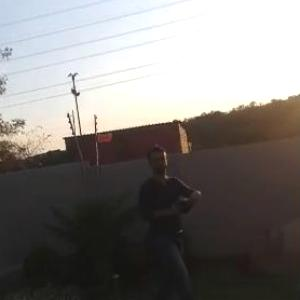follow: (133, 139, 208, 299)
